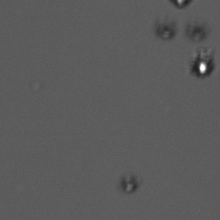Dead Cell: (154, 20, 175, 40), (120, 175, 141, 194), (188, 21, 205, 42)
Living Cell: (191, 54, 213, 77)
